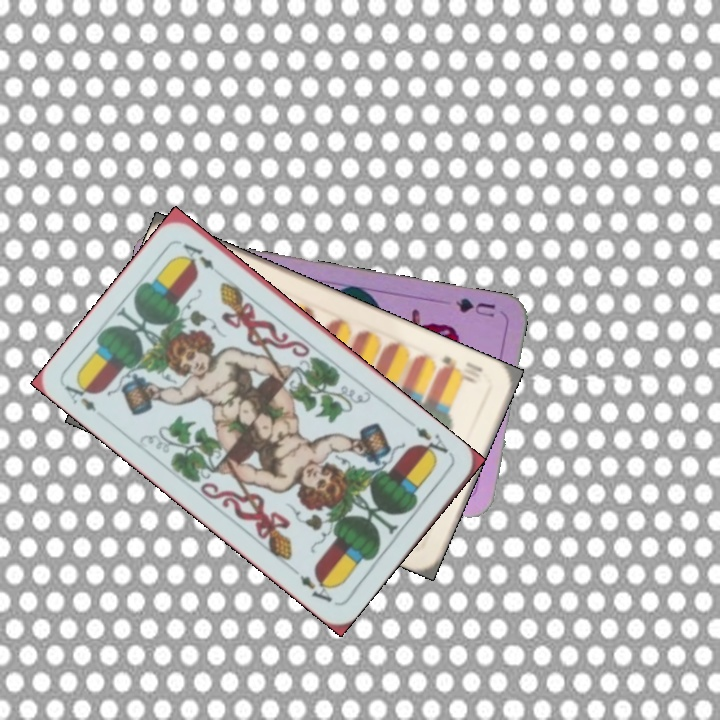E10: (435, 351, 486, 387)
EA: (411, 422, 455, 463), (60, 376, 99, 415)
GU: (451, 294, 498, 320)
